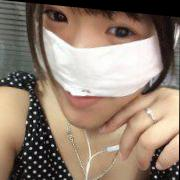WRONG: (38, 4, 159, 136)
